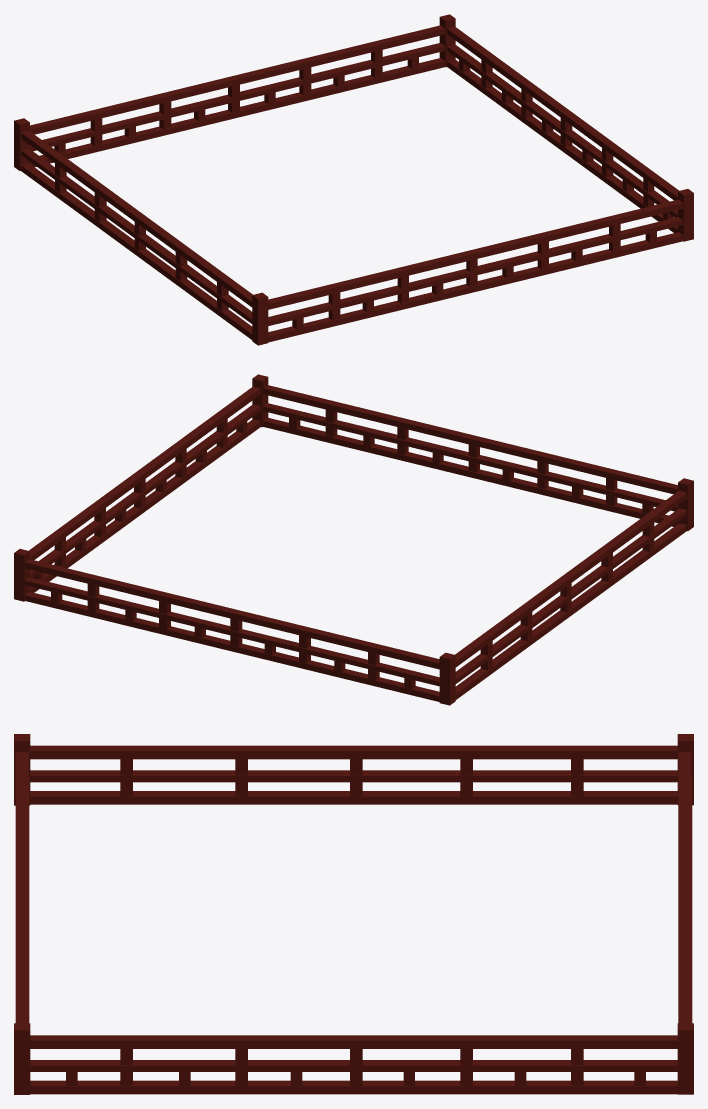
Rendered from fence5.fbx.
3 renders of one model, top to bottom at view 1: azimuth 30°, elevation 25°; view 2: azimuth 150°, elevation 25°; view 3: azimuth 270°, elevation 25°, orthographic. The views are drawn at different scales.
Parts seen in each view (by area): view 1: fence5; view 2: fence5; view 3: fence5.
Boxes of the visible parts, box(x1,y1,x2,y2) form: fence5: box(14, 14, 693, 345); fence5: box(14, 374, 693, 705); fence5: box(14, 734, 693, 1094).
Bounding box in the file's own units: 1248 × 127 × 1211.
